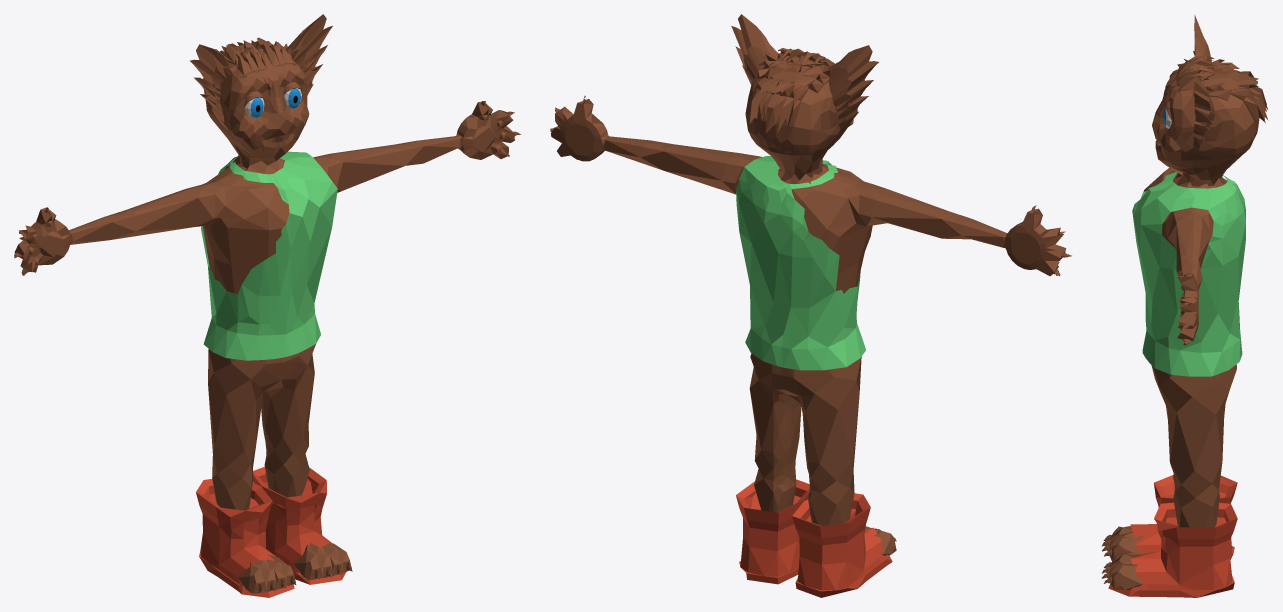
Rendered from PIP.fbx.
The picture shows the model from 3 angles, left to right: view 1: azimuth 30°, elevation 25°; view 2: azimuth 150°, elevation 25°; view 3: azimuth 270°, elevation 25°; orthographic projection. The views are drawn at different scales.
Visible parts, largest first — view 1: Body, TorsoCloths, Boots, Ears, Toes; view 2: Body, TorsoCloths, Boots, Ears; view 3: Body, TorsoCloths, Boots, Toes, Ears.
Part boxes in pixels (box(x1,y1,x2,y2)): Body: box(14, 37, 520, 510); TorsoCloths: box(201, 151, 337, 360); Boots: box(196, 466, 346, 597); Ears: box(190, 14, 332, 130); Toes: box(238, 543, 352, 593); Body: box(550, 48, 1071, 525); TorsoCloths: box(736, 156, 865, 370); Boots: box(736, 479, 892, 597); Ears: box(731, 14, 878, 133); Body: box(1143, 55, 1268, 527); TorsoCloths: box(1132, 172, 1245, 376); Boots: box(1108, 475, 1237, 597); Toes: box(1101, 526, 1144, 589); Ears: box(1193, 15, 1214, 152).
Bounding box in the file's own units: 480 × 480 × 138.
